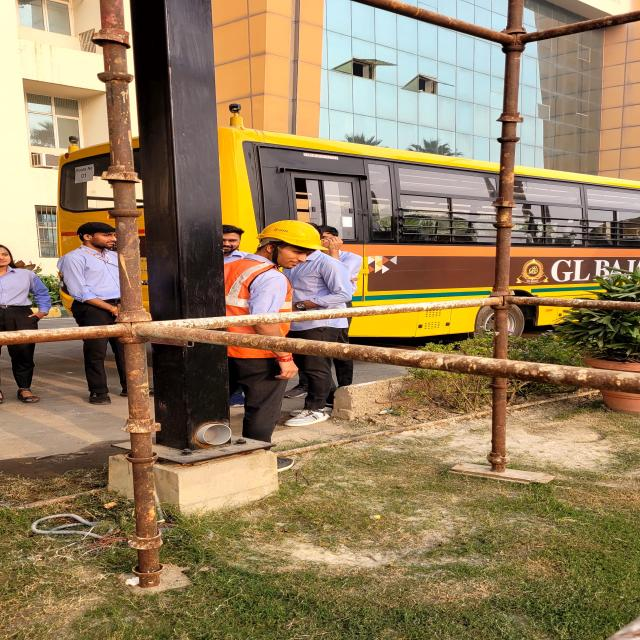safe: (225, 219, 328, 460)
unsafe: (284, 221, 354, 430), (59, 221, 129, 403), (0, 243, 52, 404)
